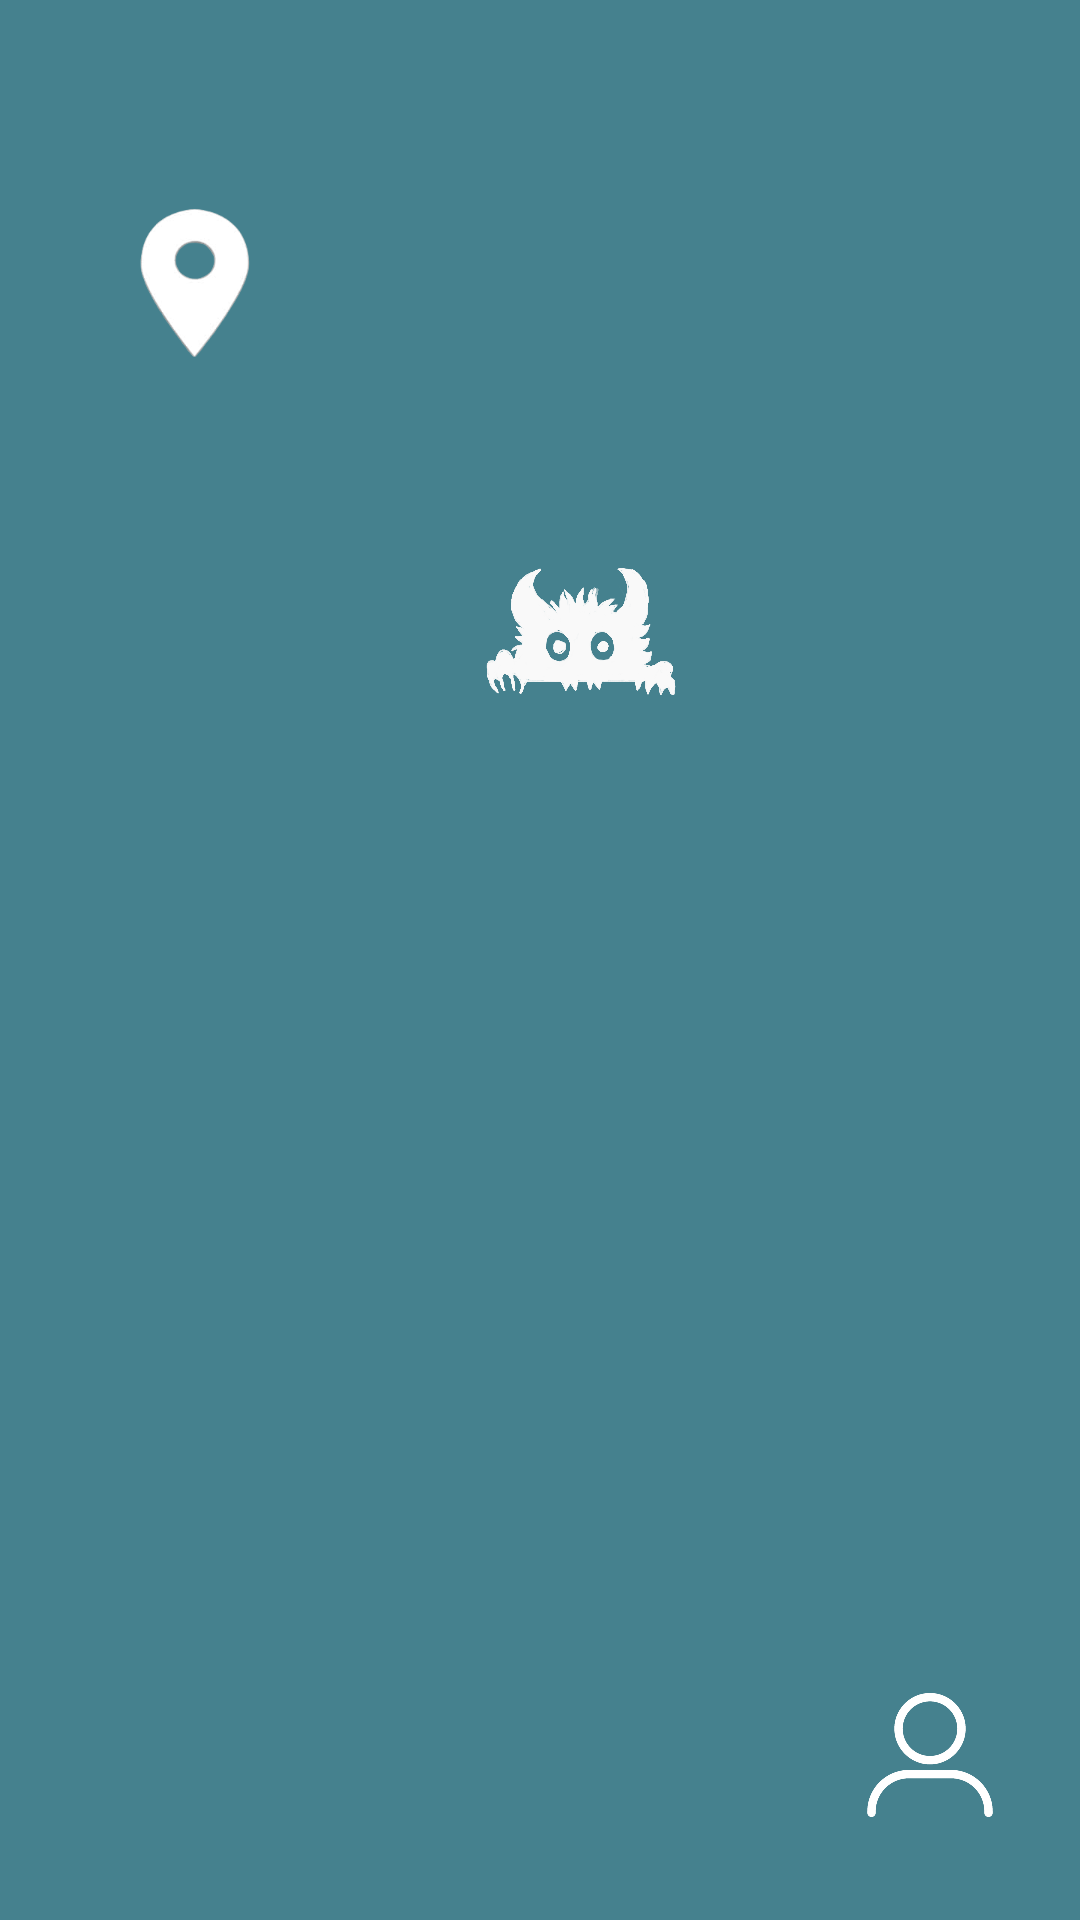

Where icons sit on this 1080×1920 app screen, as (x1, y1, x2, y2):
account: (867, 1693, 993, 1817)
map: (140, 209, 249, 357)
monster: (486, 568, 676, 695)
